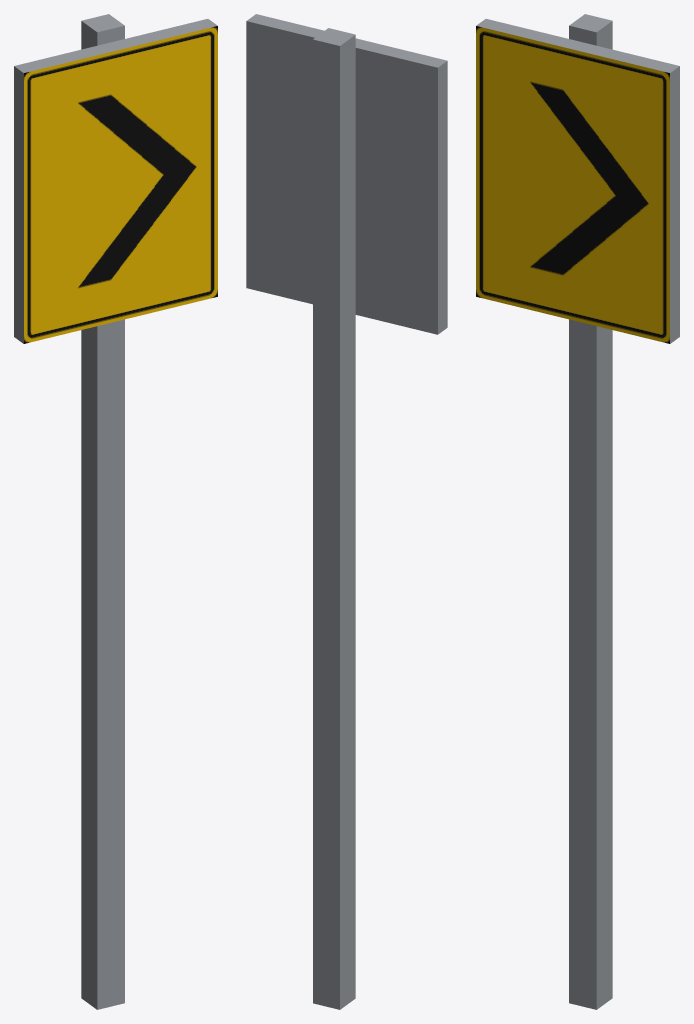
File: us_chevron_r.dae
The picture shows the model from 3 angles, left to right: view 1: azimuth 30°, elevation 25°; view 2: azimuth 150°, elevation 25°; view 3: azimuth 330°, elevation 25°; orthographic projection.
Visible parts, largest first — view 1: sign4, Colmesh-1; view 2: Colmesh-1, sign4; view 3: sign4, Colmesh-1.
Part boxes in pixels (bbox=[...]): sign4: bbox=[24, 14, 217, 1009]; Colmesh-1: bbox=[14, 19, 217, 343]; Colmesh-1: bbox=[246, 14, 447, 334]; sign4: bbox=[313, 28, 355, 1009]; sign4: bbox=[476, 14, 669, 1009]; Colmesh-1: bbox=[476, 19, 679, 343].
Size of the model in its own units: 0.4572 by 0.105 by 2.2.
Materials: 2 (1 with a texture image).
